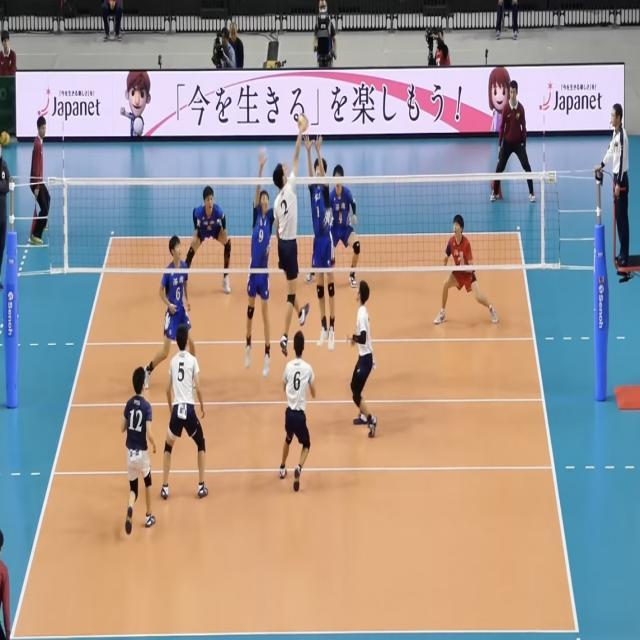spike: (272, 111, 316, 355)
